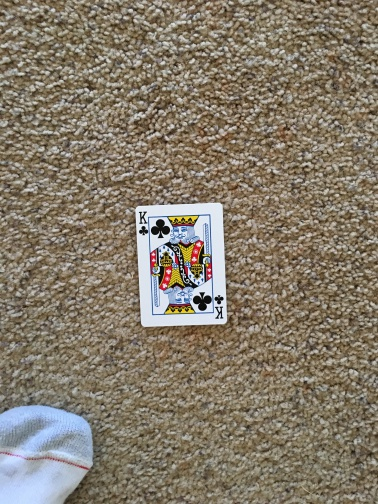king: (135, 203, 229, 327)
